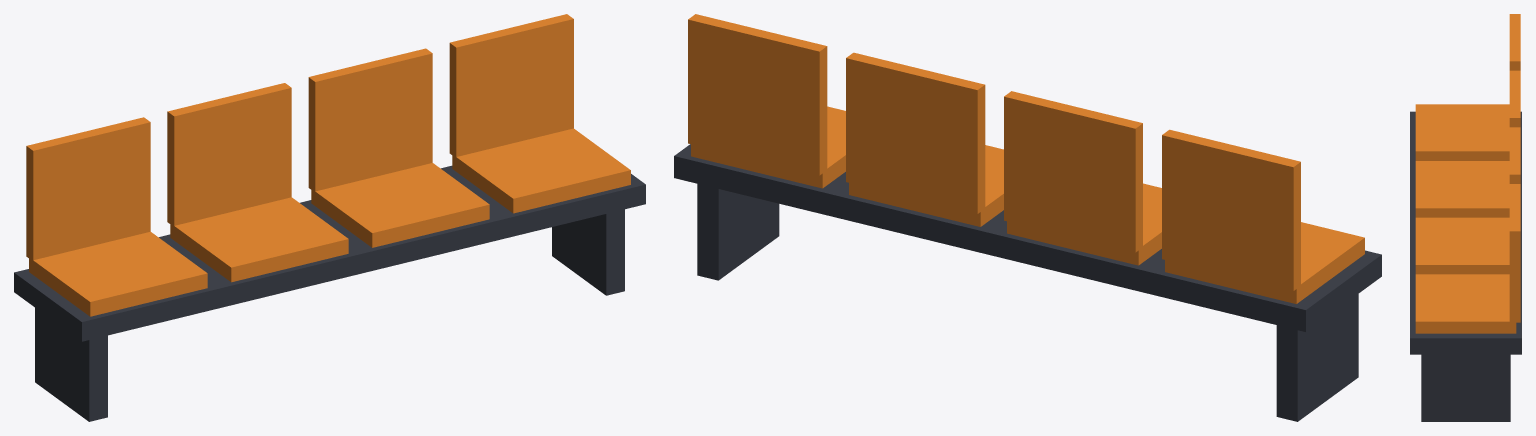
File: bowling_bench.glb
The picture shows the model from 3 angles, left to right: view 1: azimuth 30°, elevation 25°; view 2: azimuth 150°, elevation 25°; view 3: azimuth 270°, elevation 25°; orthographic projection. The views are drawn at different scales.
Visible parts, largest first — view 1: back_bench_seat (×4), seat_bench_seat (×4), frame_bench_frame, leg_bench_frame (×2); view 2: back_bench_seat (×4), frame_bench_frame, seat_bench_seat (×4), leg_bench_frame (×2); view 3: seat_bench_seat (×4), leg_bench_frame, frame_bench_frame, back_bench_seat (×4).
Boxes of the visible parts, x1,y1,x2,y2 form: back_bench_seat (×4): (26,14,573,260); seat_bench_seat (×4): (29,128,630,316); frame_bench_frame: (14,165,645,341); leg_bench_frame (×2): (35,209,624,421); back_bench_seat (×4): (688,14,1300,291); frame_bench_frame: (674,144,1381,331); seat_bench_seat (×4): (691,106,1364,303); leg_bench_frame (×2): (697,184,1358,421); seat_bench_seat (×4): (1415,104,1516,333); leg_bench_frame: (1421,354,1510,421); frame_bench_frame: (1410,111,1521,354); back_bench_seat (×4): (1509,14,1520,322).
Size of the model in its own units: 2.4 by 0.945 by 0.5.
